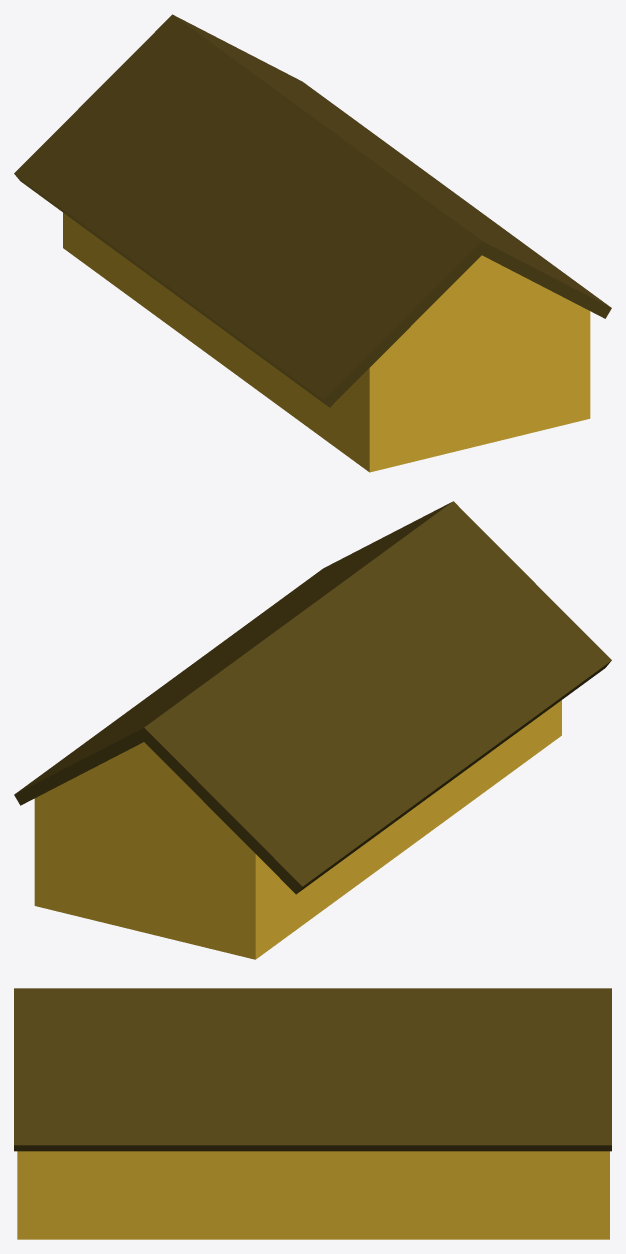
Rendered from result.dae.
The picture shows the model from 3 angles, top to bottom: view 1: azimuth 30°, elevation 25°; view 2: azimuth 150°, elevation 25°; view 3: azimuth 270°, elevation 25°; orthographic projection. The views are drawn at different scales.
Visible parts, largest first — view 1: 2d12f9e5-f915-49fe-b99e-eda2467bb1b2__undefined (×5), 535f74d3-3925-4d34-9023-10a355886a42__undefined (×2); view 2: 2d12f9e5-f915-49fe-b99e-eda2467bb1b2__undefined (×5), 535f74d3-3925-4d34-9023-10a355886a42__undefined (×2); view 3: 2d12f9e5-f915-49fe-b99e-eda2467bb1b2__undefined (×2), 535f74d3-3925-4d34-9023-10a355886a42__undefined.
Part boxes in pixels (x1=…): 2d12f9e5-f915-49fe-b99e-eda2467bb1b2__undefined (×5): x1=14, y1=14, x2=611, y2=407; 535f74d3-3925-4d34-9023-10a355886a42__undefined (×2): x1=63, y1=213, x2=590, y2=472; 2d12f9e5-f915-49fe-b99e-eda2467bb1b2__undefined (×5): x1=14, y1=501, x2=611, y2=894; 535f74d3-3925-4d34-9023-10a355886a42__undefined (×2): x1=34, y1=700, x2=561, y2=959; 2d12f9e5-f915-49fe-b99e-eda2467bb1b2__undefined (×2): x1=14, y1=988, x2=611, y2=1151; 535f74d3-3925-4d34-9023-10a355886a42__undefined: x1=17, y1=1151, x2=609, y2=1239.
Size of the model in its own units: 652 by 445 by 1211.
